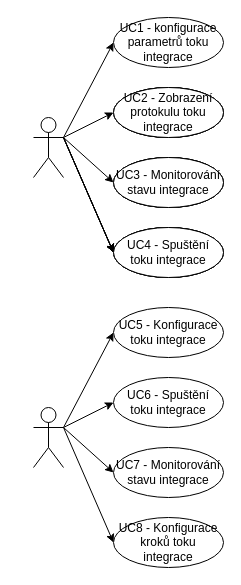
Some shapes in this 241 by 585 pixel diagram are drawn without their labels. Here are the shapes that lost their labels. From the top down, the centre of each, then its label:
At (48,147): "Systémový adinistrátor".
At (48,437): "Vývojář integrátoru".
